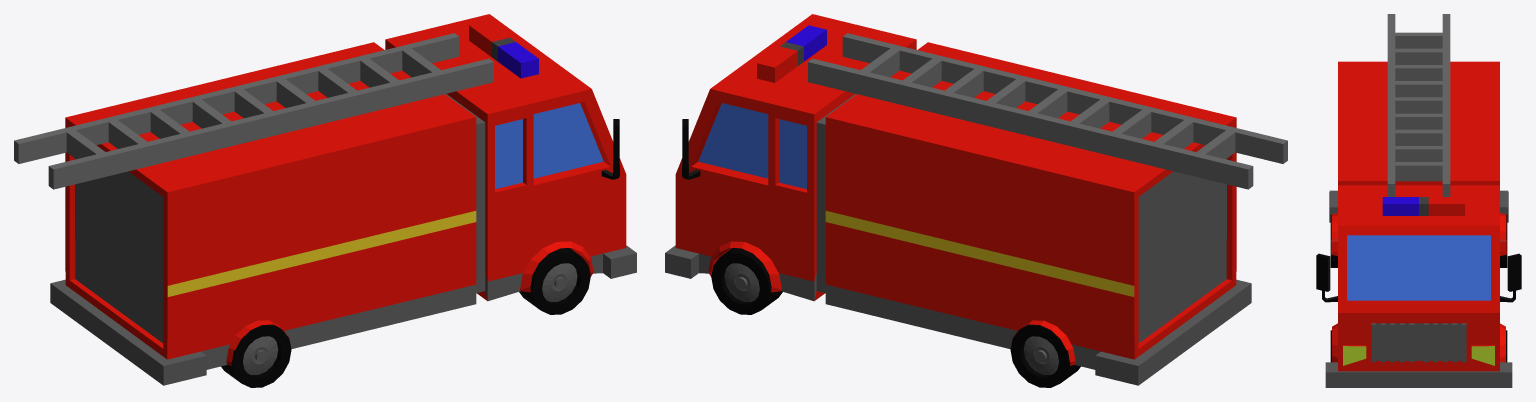
Rendered from fire_truck.gltf.
The picture shows the model from 3 angles, left to right: view 1: azimuth 30°, elevation 25°; view 2: azimuth 150°, elevation 25°; view 3: azimuth 270°, elevation 25°; orthographic projection. The views are drawn at different scales.
Visible parts, largest first — view 1: Firetruck; view 2: Firetruck; view 3: Firetruck.
Part boxes in pixels (left/top/right/bottom): Firetruck: left=14, top=14, right=636, bottom=387; Firetruck: left=665, top=14, right=1287, bottom=387; Firetruck: left=1316, top=14, right=1521, bottom=387.
Size of the model in its own units: 2.66 by 1.09 by 1.1.
